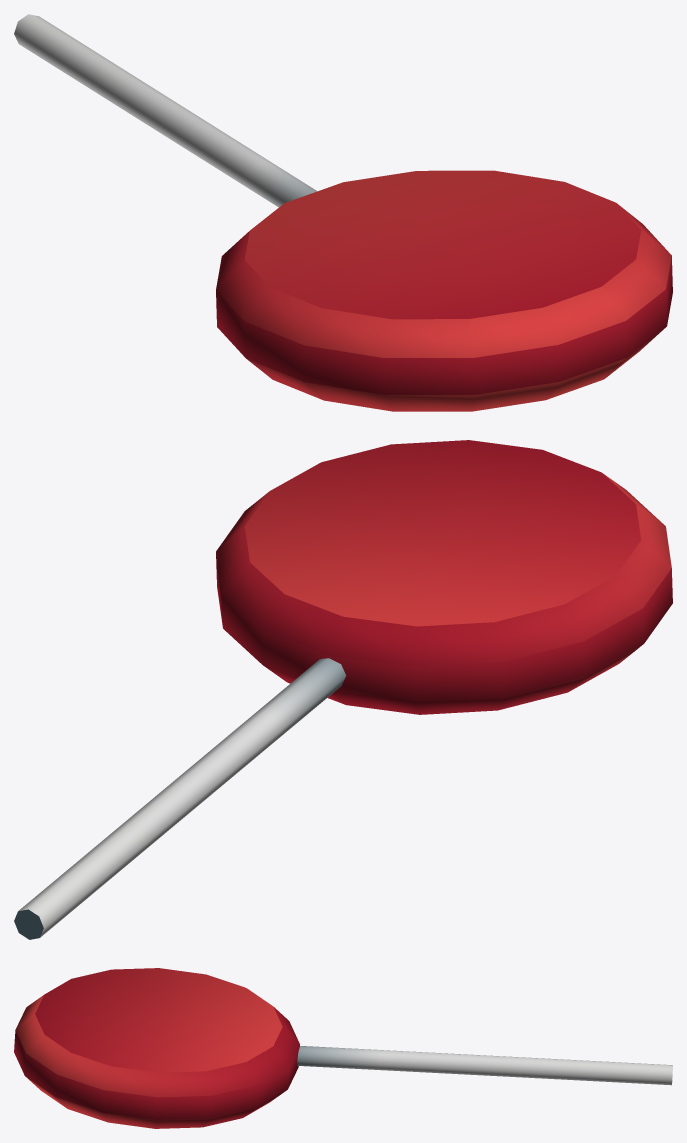
Rendered from consumables-sugar-lollipop_v3.glb.
The picture shows the model from 3 angles, top to bottom: view 1: azimuth 30°, elevation 25°; view 2: azimuth 150°, elevation 25°; view 3: azimuth 270°, elevation 25°; orthographic projection. The views are drawn at different scales.
Parts seen in each view (by area): view 1: Lollipop_v3; view 2: Lollipop_v3; view 3: Lollipop_v3.
Part boxes in pixels (left/top/right/bottom): Lollipop_v3: left=14, top=14, right=672, bottom=411; Lollipop_v3: left=14, top=440, right=672, bottom=939; Lollipop_v3: left=14, top=968, right=672, bottom=1128.
Bounding box in the file's own units: 0.062 × 0.017 × 0.1433.
